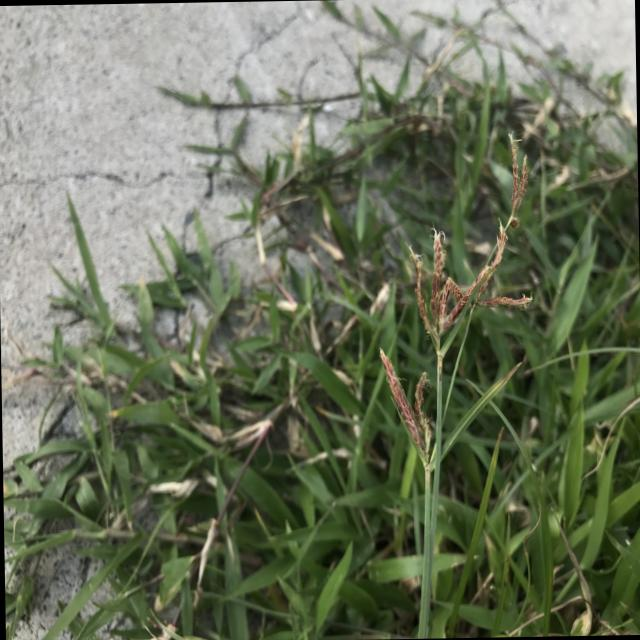cyperus: (362, 131, 549, 504)
